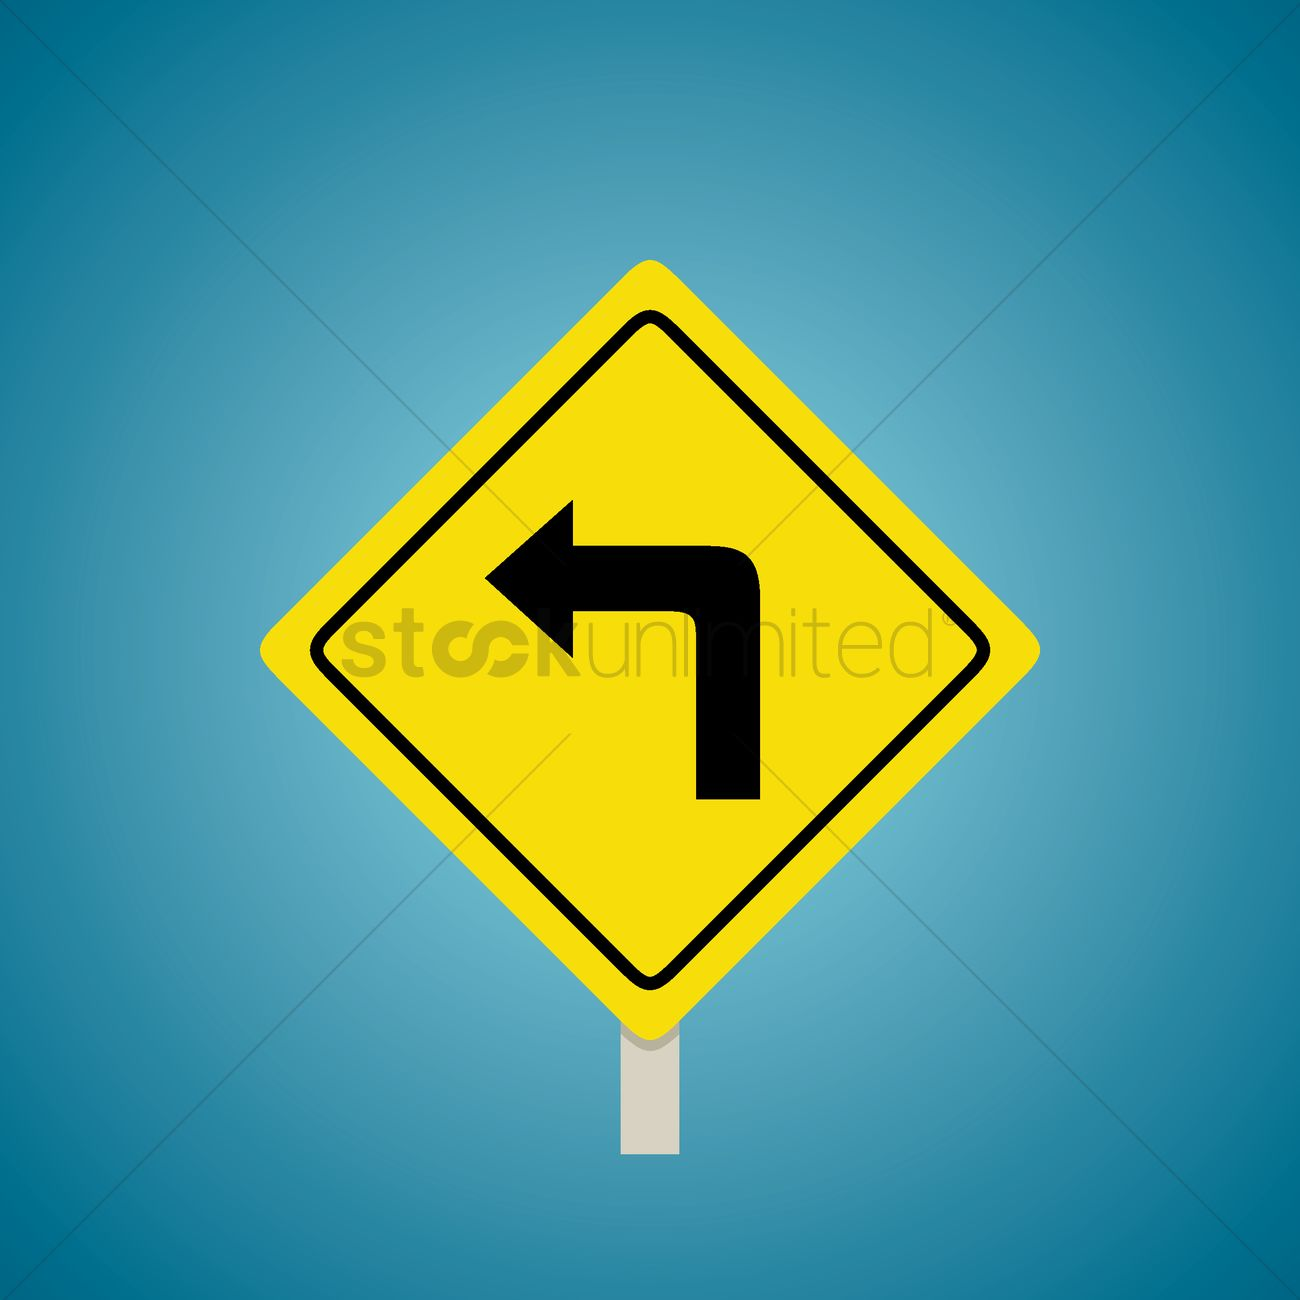left: (246, 248, 1046, 1044)
